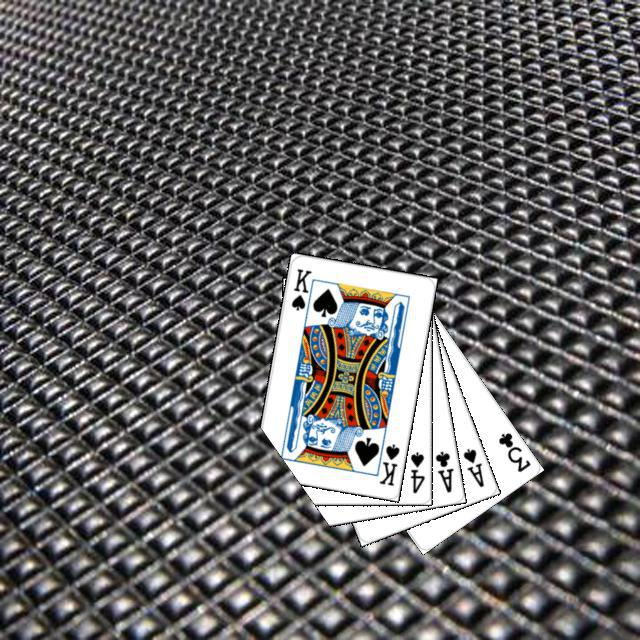3c: (493, 428, 533, 474)
4s: (405, 447, 426, 495)
Ac: (430, 446, 455, 494)
As: (458, 443, 486, 489)
Ks: (286, 264, 315, 317), (374, 439, 401, 487)
